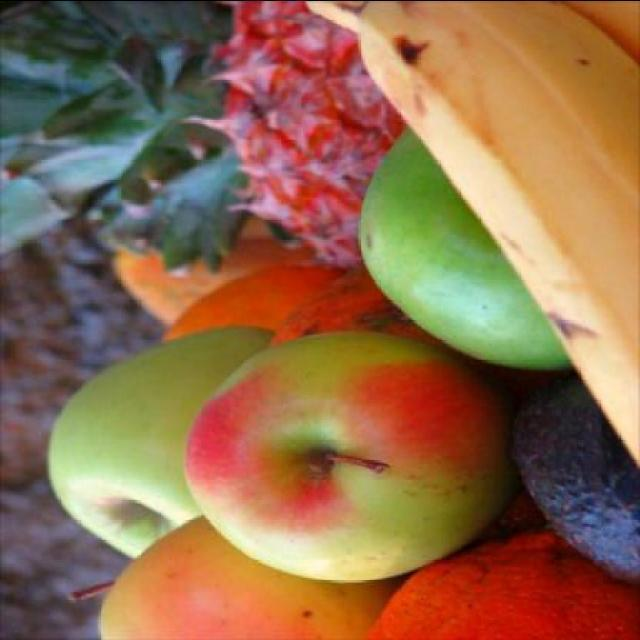Banana: (304, 1, 640, 468), (566, 1, 638, 64)
